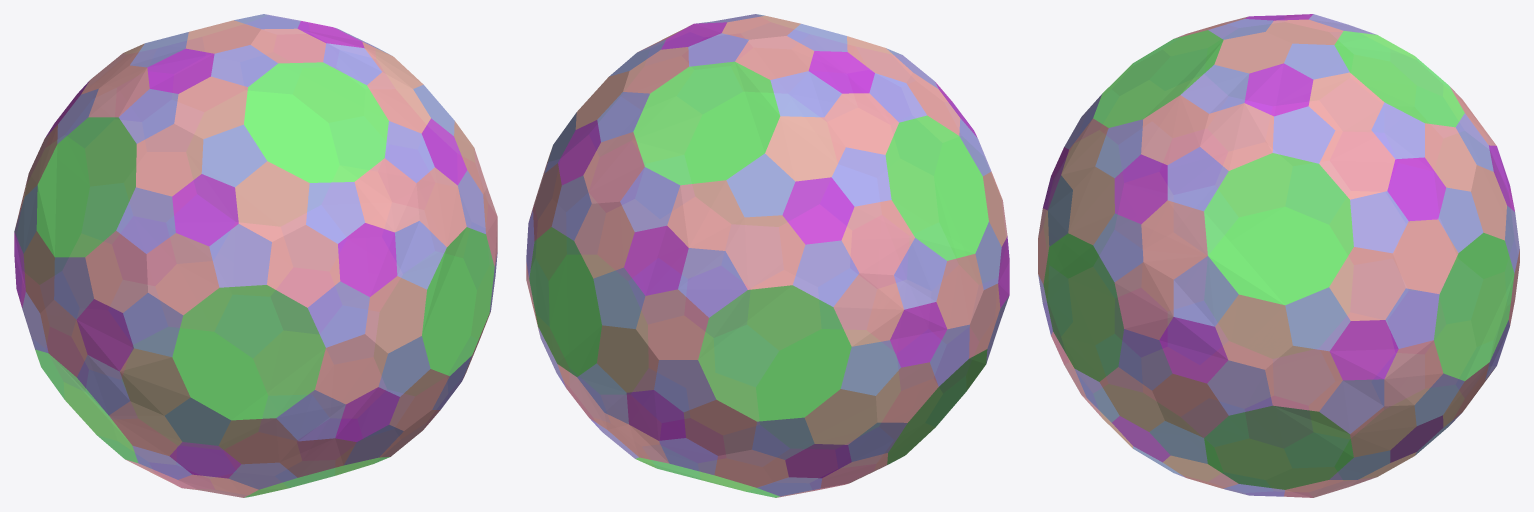
File: TruncatedSnubDodecahedron.obj
3 renders of one model, left to right at view 1: azimuth 30°, elevation 25°; view 2: azimuth 150°, elevation 25°; view 3: azimuth 270°, elevation 25°, orthographic.
Size of the model in its own units: 2 by 2 by 2.
